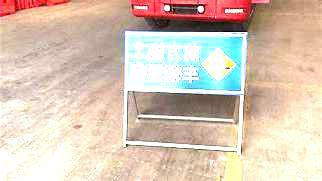sign: (125, 31, 243, 93)
